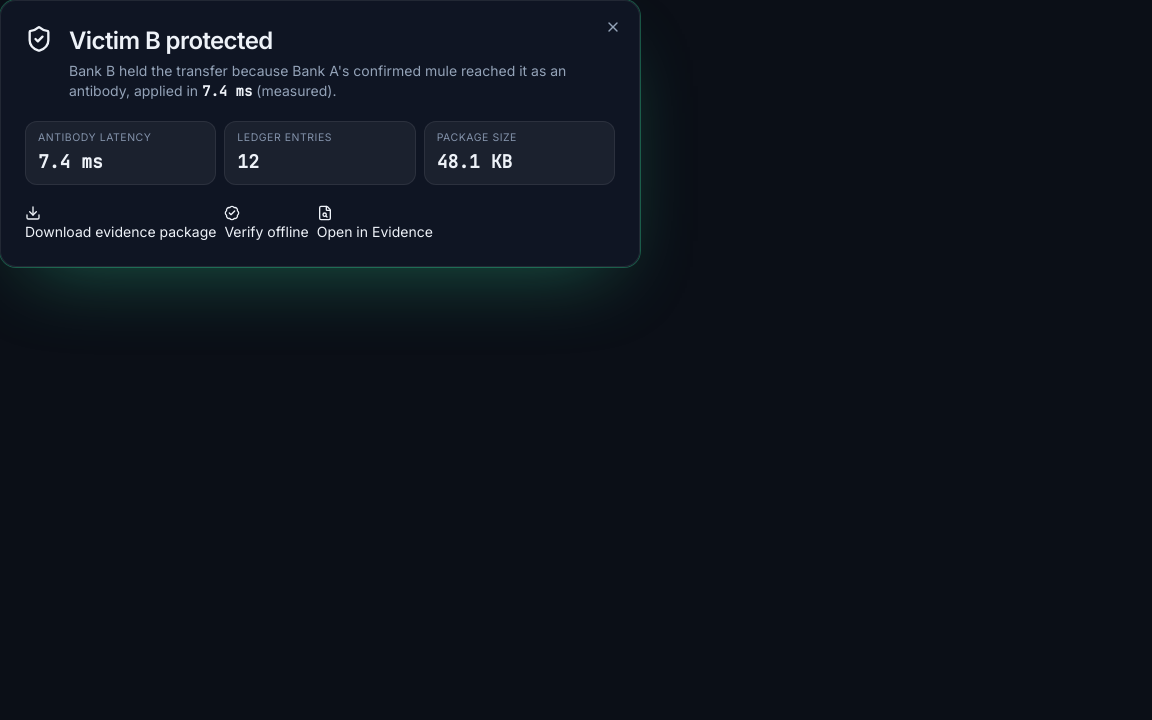
Test: FinaleCard › labels INTEGRITY_OK_UNPINNED as UNPINNED
This screenshot has width=1152, height=720.
What coordinates should you click on to do the following:
click the button with test id "verify-offline"
I would click on:
 (267, 223)
Its box is [224,205,309,242].
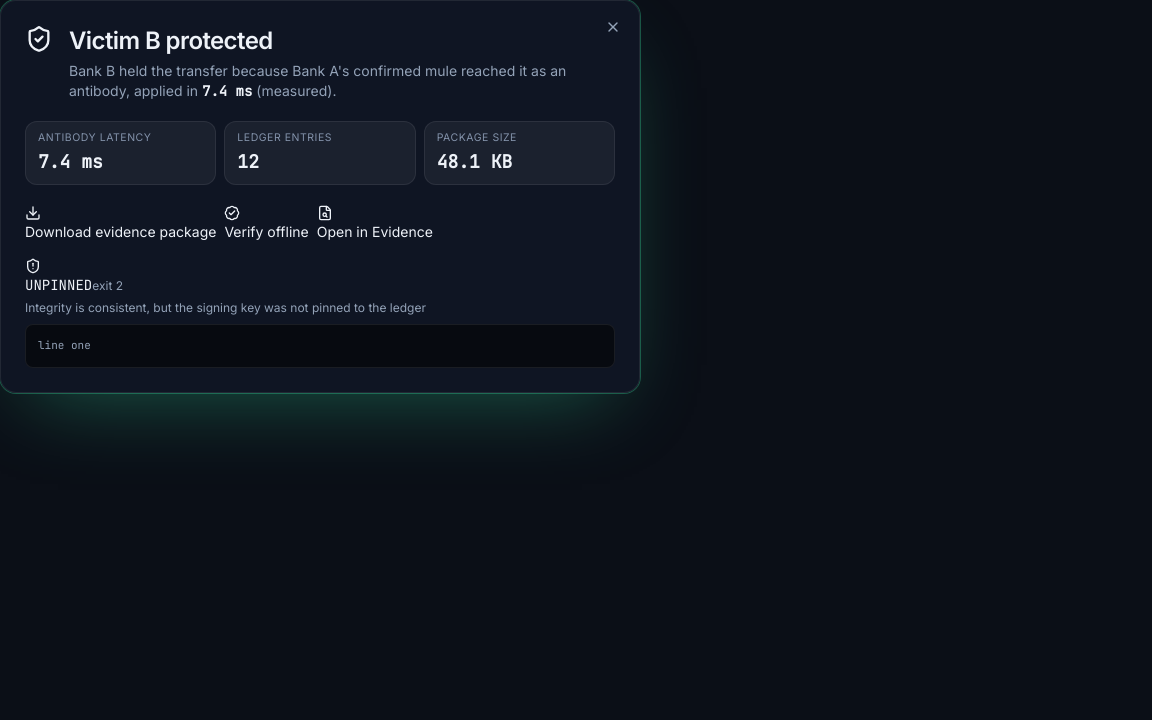
expect the text with test id "verify-status" reads "UNPINNED": met, box [25,276,92,294]
expect the text "line one" is shown: met, box [25,324,615,368]
